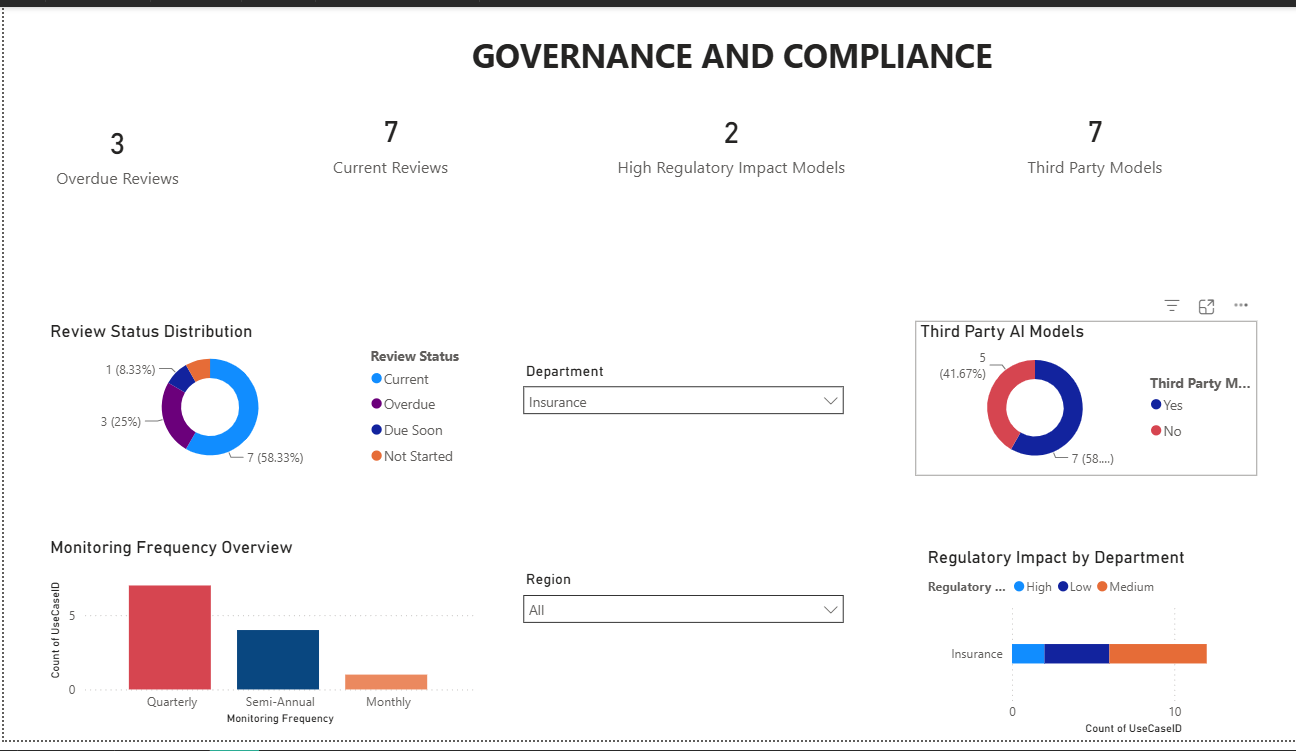

What the dashboard file says about the page in this screenshot:
{"tool":"powerbi","page":{"name":"Page 2","canvas":[1280,720],"ordinal":1},"visuals":[{"type":"textbox","box":[423.3,20.9,582.8,56.4],"z":0},{"type":"card","fields":{"Values":["AI_Inventory.Overdue Reviews"]},"box":[9.8,88.3,203.7,109.2],"z":1},{"type":"card","fields":{"Values":["AI_Inventory.Current Reviews"]},"box":[292.4,88.3,175.5,87.1],"z":2},{"type":"card","fields":{"Values":["AI_Inventory.High Regulatory Impact Models"]},"box":[546.8,89.6,333.7,85.9],"z":3},{"type":"card","fields":{"Values":["AI_Inventory.Third Party Models"]},"box":[959.5,88.3,223.3,87.1],"z":4},{"type":"donutChart","title":" Review Status Distribution","fields":{"Category":["AI_Inventory.Review Status"],"Y":["CountNonNull(AI_Inventory.UseCaseID)"]},"box":[40.5,308.4,427.1,150.6],"z":5},{"type":"clusteredColumnChart","title":" Monitoring Frequency Overview","fields":{"Category":["AI_Inventory.Monitoring Frequency"],"Y":["CountNonNull(AI_Inventory.UseCaseID)"]},"box":[40.5,519.7,427.1,189.6],"z":6},{"type":"donutChart","title":" Third Party AI Models","fields":{"Category":["AI_Inventory.Third Party Model"],"Y":["CountNonNull(AI_Inventory.UseCaseID)"]},"box":[894.7,308.4,334.4,152],"z":7},{"type":"barChart","title":"Regulatory Impact by Department","fields":{"Series":["AI_Inventory.Regulatory Impact"],"Category":["AI_Inventory.Department"],"Y":["CountNonNull(AI_Inventory.UseCaseID)"]},"box":[901.9,529.8,338.8,189.6],"z":8},{"type":"slicer","fields":{"Values":["AI_Inventory.Region"]},"box":[499.4,548.7,334.4,81.1],"z":9},{"type":"slicer","fields":{"Values":["AI_Inventory.Department"]},"box":[499.4,343.1,334.4,84],"z":10}]}

Visuals, with their boxes in screenshot pixels (x1, y1, x2, y2), scaled from the page's 1280x720 canvas onto the 1296x751 screenshot:
textbox: rect(429, 22, 1019, 81)
card - AI_Inventory.Overdue Reviews: rect(10, 92, 216, 206)
card - AI_Inventory.Current Reviews: rect(296, 92, 474, 183)
card - AI_Inventory.High Regulatory Impact Models: rect(554, 93, 892, 183)
card - AI_Inventory.Third Party Models: rect(971, 92, 1198, 183)
" Review Status Distribution" donutChart: rect(41, 322, 473, 479)
" Monitoring Frequency Overview" clusteredColumnChart: rect(41, 542, 473, 740)
" Third Party AI Models" donutChart: rect(906, 322, 1244, 480)
"Regulatory Impact by Department" barChart: rect(913, 553, 1256, 750)
slicer - AI_Inventory.Region: rect(506, 572, 844, 657)
slicer - AI_Inventory.Department: rect(506, 358, 844, 445)
